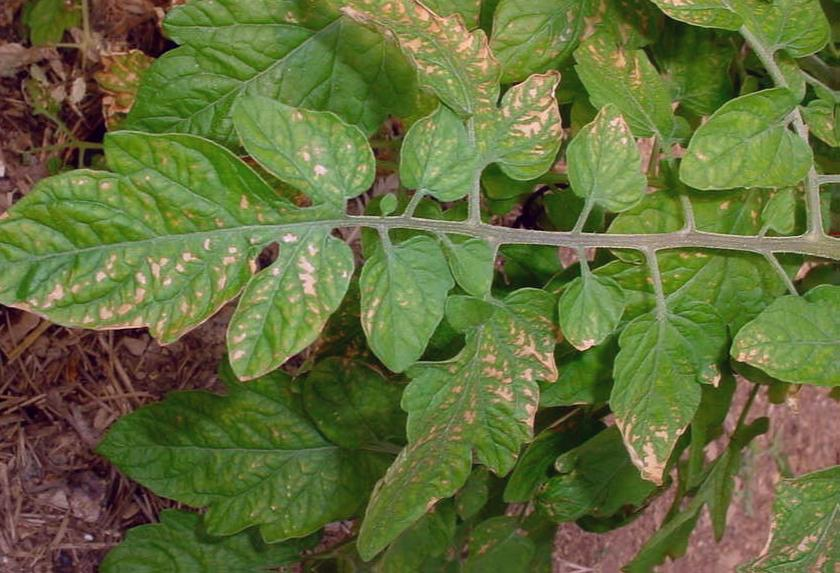Tomato leaf bacterial spot: (0, 120, 309, 371), (356, 251, 559, 567), (313, 0, 592, 211), (581, 295, 757, 517), (217, 221, 369, 402), (699, 246, 840, 425), (669, 55, 804, 210), (343, 229, 456, 377), (233, 102, 380, 211), (565, 109, 657, 242), (553, 263, 636, 362)
